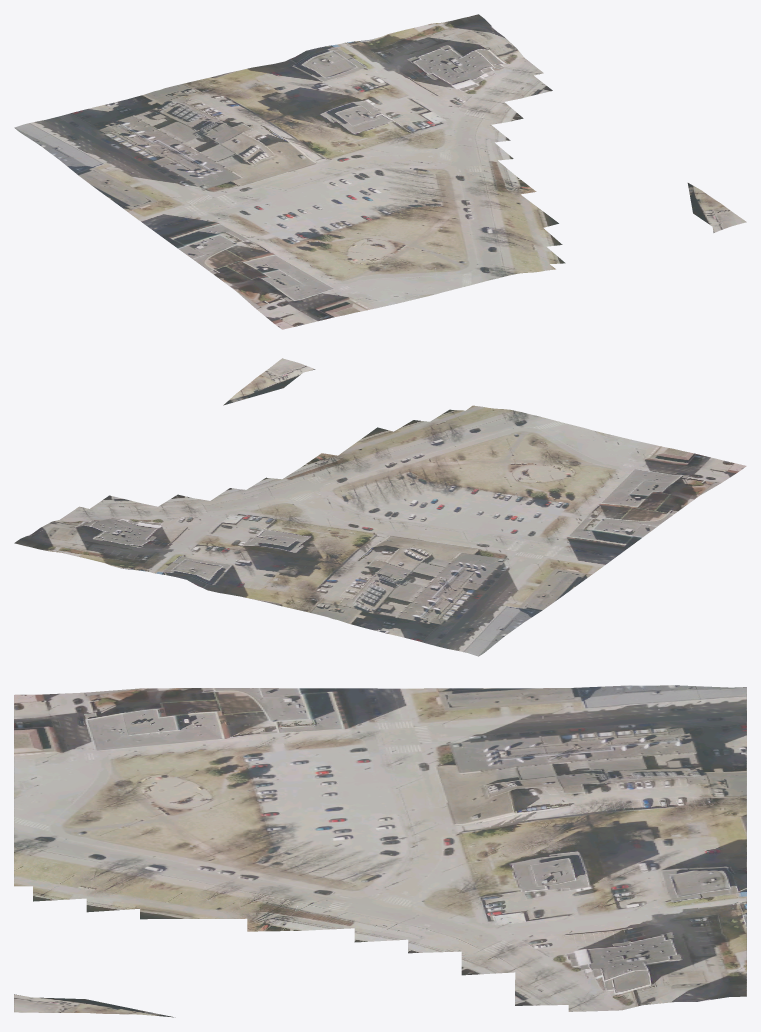
The model's file is CM_Terrain_24486978_6820408.fbx.
3 views of the same model, one above another, from view 1: azimuth 30°, elevation 25°; view 2: azimuth 150°, elevation 25°; view 3: azimuth 270°, elevation 25° (orthographic). The views are drawn at different scales.
Visible parts, largest first — view 1: CM_Terrain_24486978_6820408_LOD0; view 2: CM_Terrain_24486978_6820408_LOD0; view 3: CM_Terrain_24486978_6820408_LOD0.
Boxes of the visible parts, x1,y1,x2,y2 form: CM_Terrain_24486978_6820408_LOD0: (14,14,746,329); CM_Terrain_24486978_6820408_LOD0: (14,358,746,656); CM_Terrain_24486978_6820408_LOD0: (14,685,746,1017).
Size of what is drawn, in the model's own units: 205 by 8.94 by 205.
